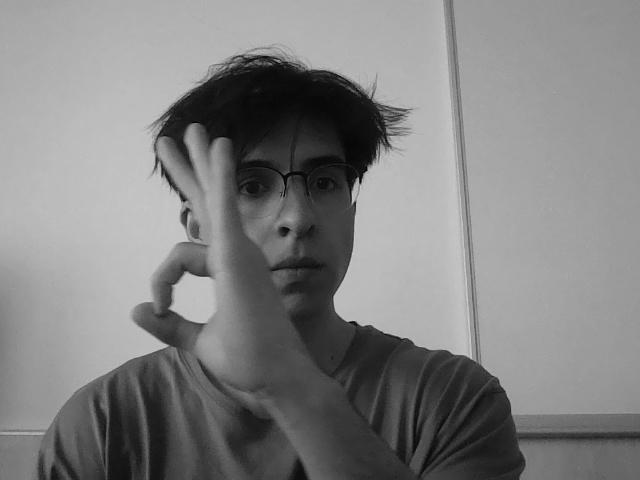OK: (131, 130, 267, 358)
